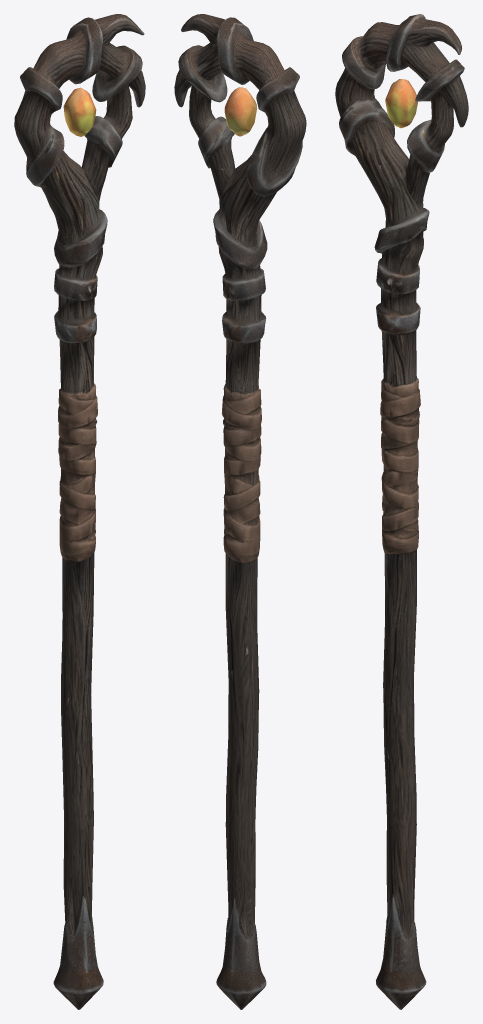
The model's file is wpn_staff_oak.glb.
The picture shows the model from 3 angles, left to right: view 1: azimuth 30°, elevation 25°; view 2: azimuth 150°, elevation 25°; view 3: azimuth 330°, elevation 25°; orthographic projection.
Visible parts, largest first — view 1: wpn_staff_oak; view 2: wpn_staff_oak; view 3: wpn_staff_oak.
Part boxes in pixels (box(x1,y1,x2,y2)): wpn_staff_oak: box(14, 14, 145, 1009); wpn_staff_oak: box(174, 14, 306, 1009); wpn_staff_oak: box(335, 14, 468, 1009).
Size of the model in its own units: 0.2307 by 1.7 by 0.1066.
1 material, 1 textured.
